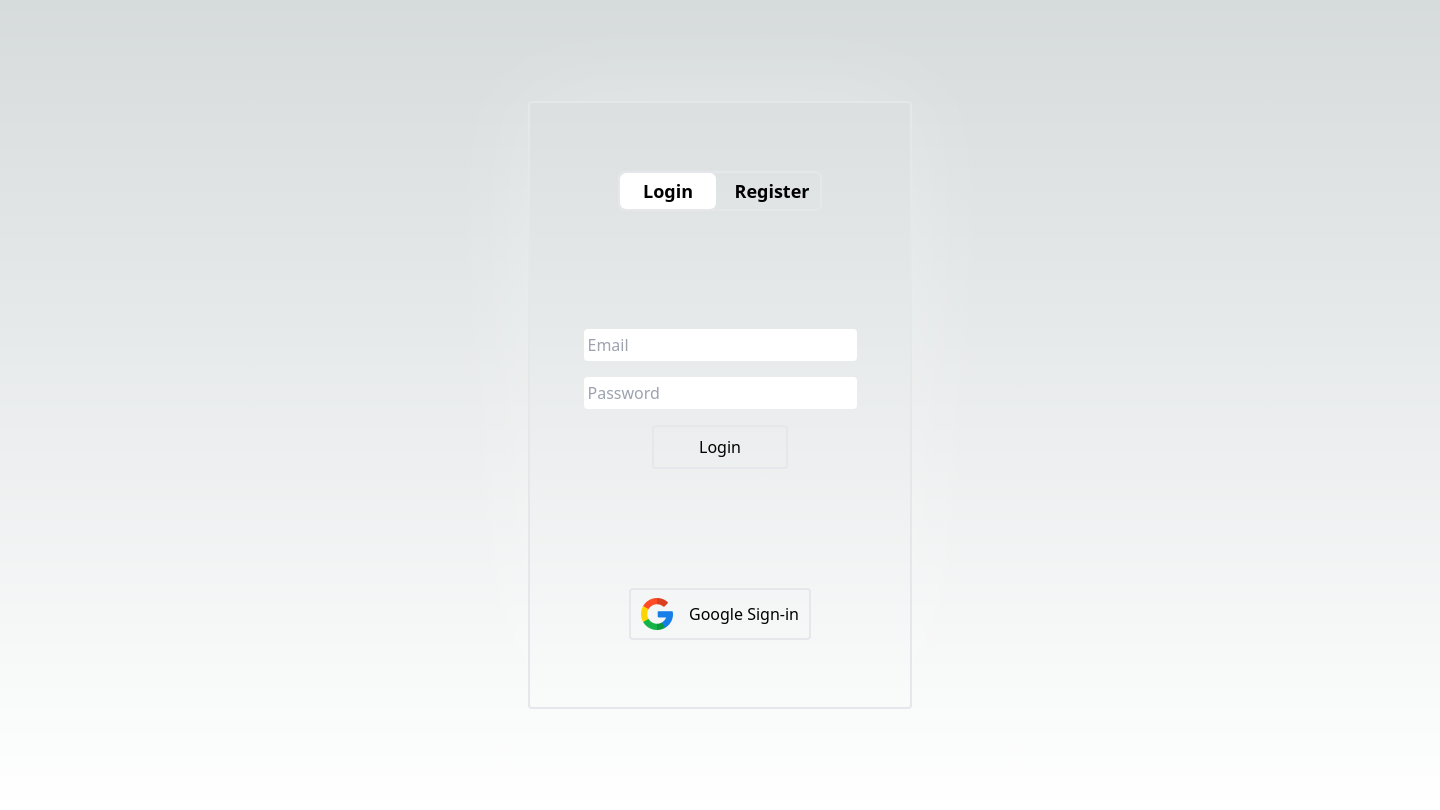
Test: Home Component › switches to registration form when clicking "Register"
Click the text "Register" at [772, 190], box [734, 178, 810, 202]
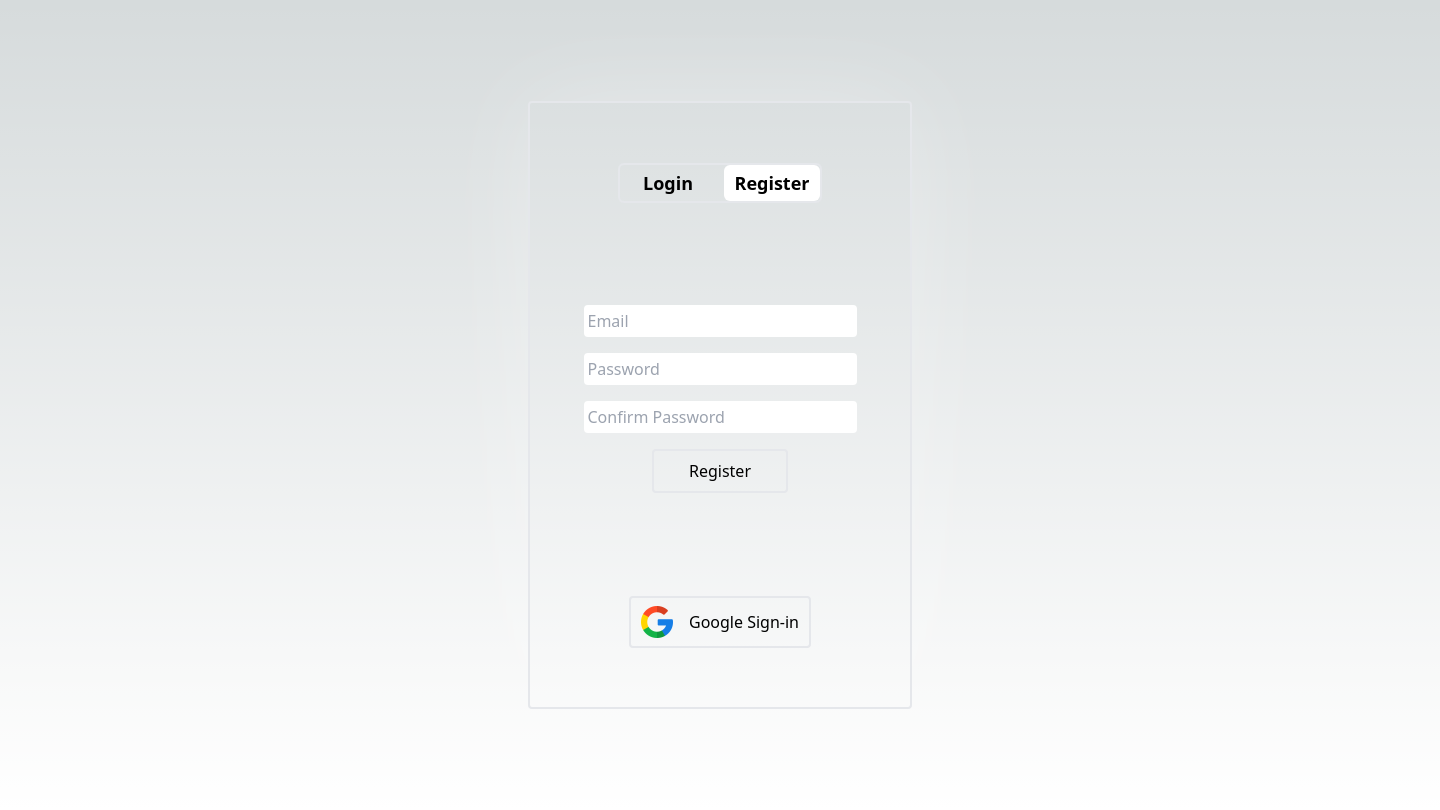
Result: the password field with placeholder "Confirm Password" is shown at [584, 401, 856, 433]
